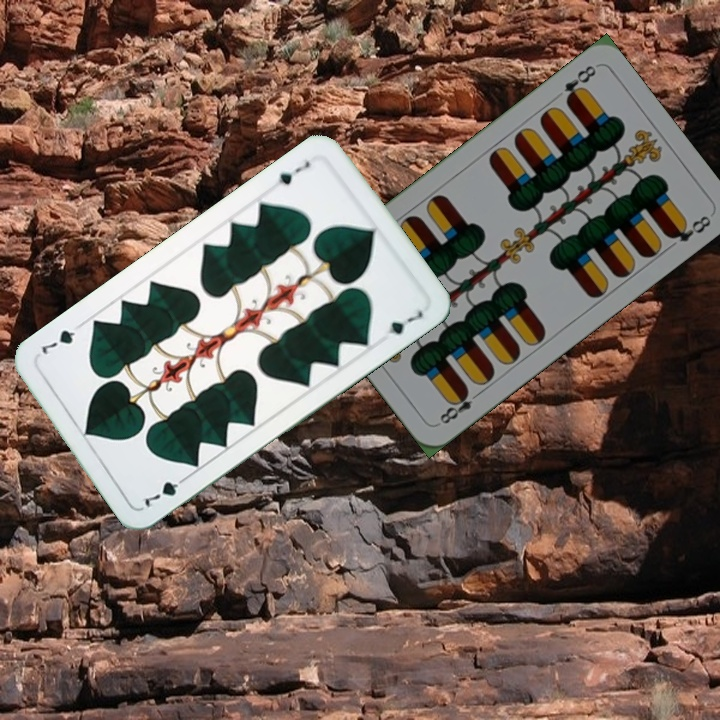E8: (435, 385, 484, 427), (560, 61, 599, 107)
G7: (140, 472, 192, 510), (274, 156, 313, 188)
